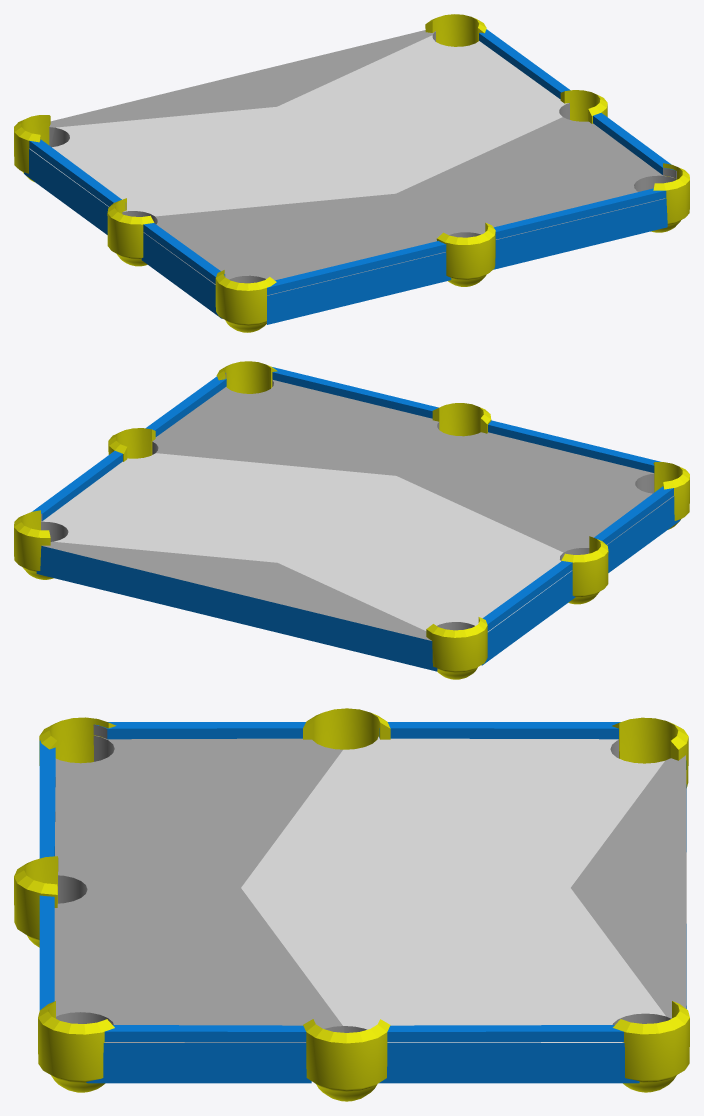
The picture shows the model from 3 angles, top to bottom: view 1: azimuth 30°, elevation 25°; view 2: azimuth 150°, elevation 25°; view 3: azimuth 270°, elevation 25°; orthographic projection. The views are drawn at different scales.
Parts seen in each view (by area): view 1: polySurface89, pSphere18; view 2: polySurface89, pSphere18; view 3: polySurface89, pSphere18.
Boxes of the visible parts, x1,y1,x2,y2 form: polySurface89: [24, 29, 676, 324]; pSphere18: [14, 14, 689, 332]; polySurface89: [32, 367, 680, 671]; pSphere18: [14, 361, 689, 679]; polySurface89: [39, 722, 686, 1083]; pSphere18: [14, 708, 689, 1101].
Size of the model in its own units: 692 by 78.91 by 593.
